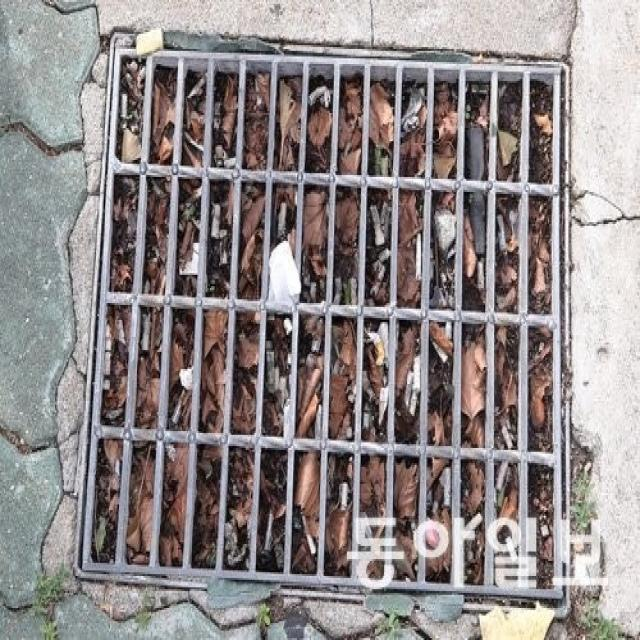drain_full: (82, 51, 563, 599)
